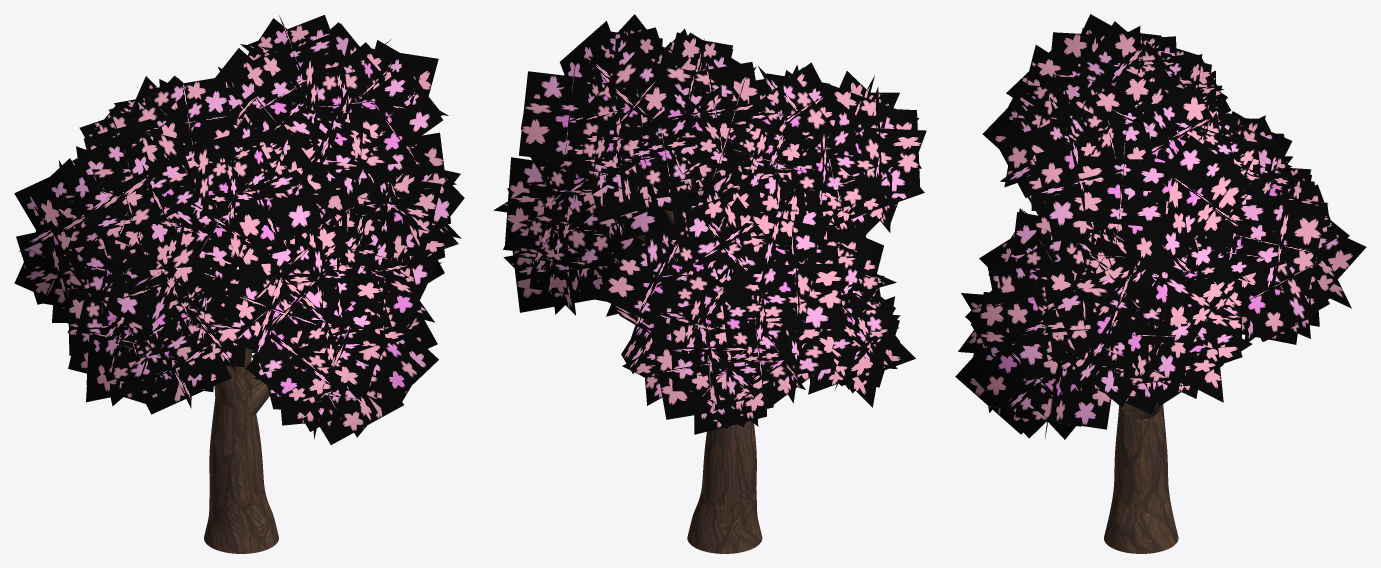
Rendered from cherry.fbx.
3 views of the same model, side by side, from view 1: azimuth 30°, elevation 25°; view 2: azimuth 150°, elevation 25°; view 3: azimuth 270°, elevation 25° (orthographic).
Visible parts, largest first — view 1: leaves, trunk; view 2: leaves, trunk; view 3: leaves, trunk.
Part boxes in pixels (bbox=[...]): leaves: bbox=[14, 15, 464, 444]; trunk: bbox=[204, 347, 278, 553]; leaves: bbox=[493, 14, 926, 434]; trunk: bbox=[637, 209, 762, 553]; leaves: bbox=[955, 14, 1366, 439]; trunk: bbox=[1104, 401, 1178, 553].
Bounding box in the file's own units: 16.59 × 20 × 15.33.
